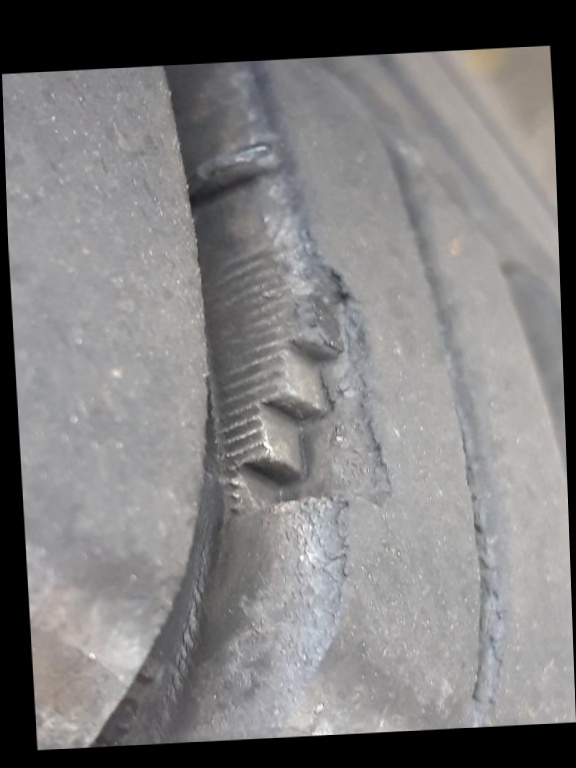temoin:80: (182, 221, 416, 543)
